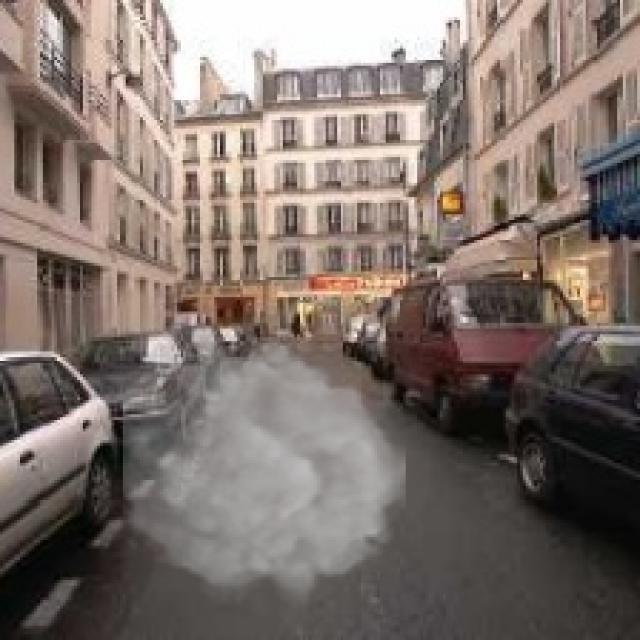Smoke: (123, 328, 406, 608)
